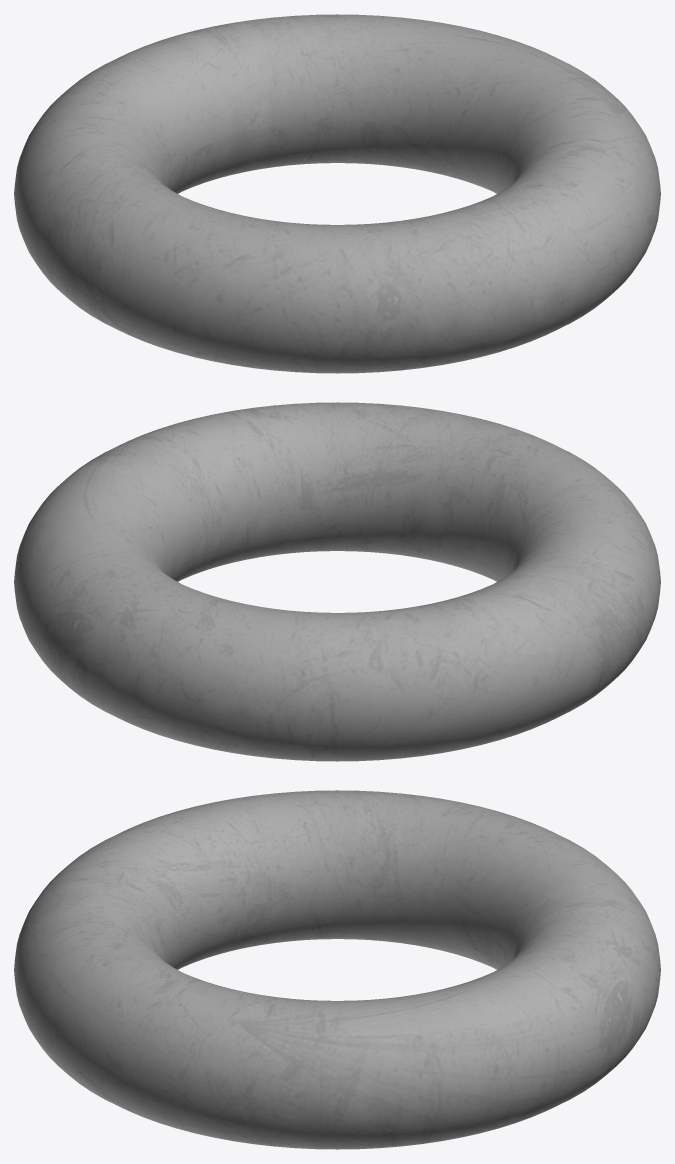
3 views of the same model, one above another, from view 1: azimuth 30°, elevation 25°; view 2: azimuth 150°, elevation 25°; view 3: azimuth 270°, elevation 25° (orthographic).
Visible parts, largest first — view 1: Torus; view 2: Torus; view 3: Torus.
Part boxes in pixels (x1,y1,x2,y2): Torus: (14,14,660,373); Torus: (14,402,660,761); Torus: (14,790,660,1149).
Bounding box in the file's own units: 2.08 × 0.4759 × 2.08.
1 material, 1 textured.
